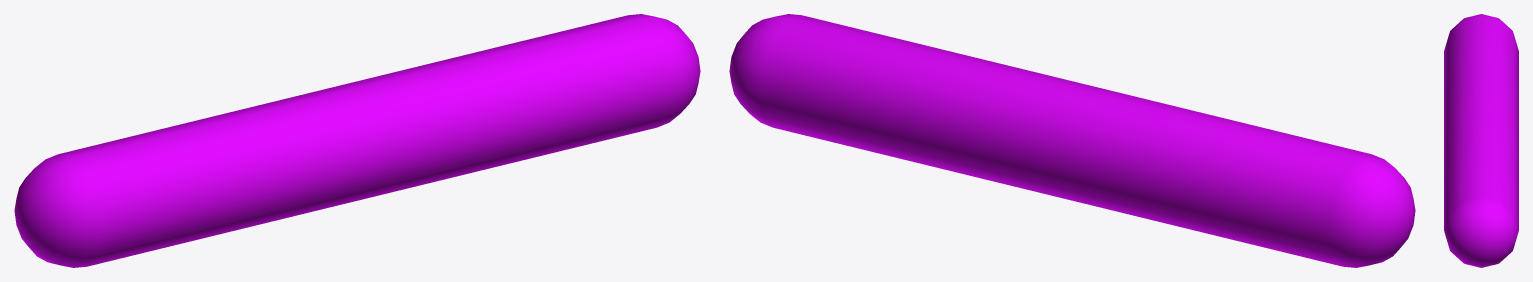
Rendered from viola_proiettile.obj.
The picture shows the model from 3 angles, left to right: view 1: azimuth 30°, elevation 25°; view 2: azimuth 150°, elevation 25°; view 3: azimuth 270°, elevation 25°; orthographic projection. The views are drawn at different scales.
Visible parts, largest first — view 1: Capsule001; view 2: Capsule001; view 3: Capsule001.
Boxes of the visible parts, left/top/right/bottom form: Capsule001: left=14, top=14, right=700, bottom=267; Capsule001: left=729, top=14, right=1415, bottom=267; Capsule001: left=1444, top=14, right=1518, bottom=267.
Bounding box in the file's own units: 400 × 60 × 60.
